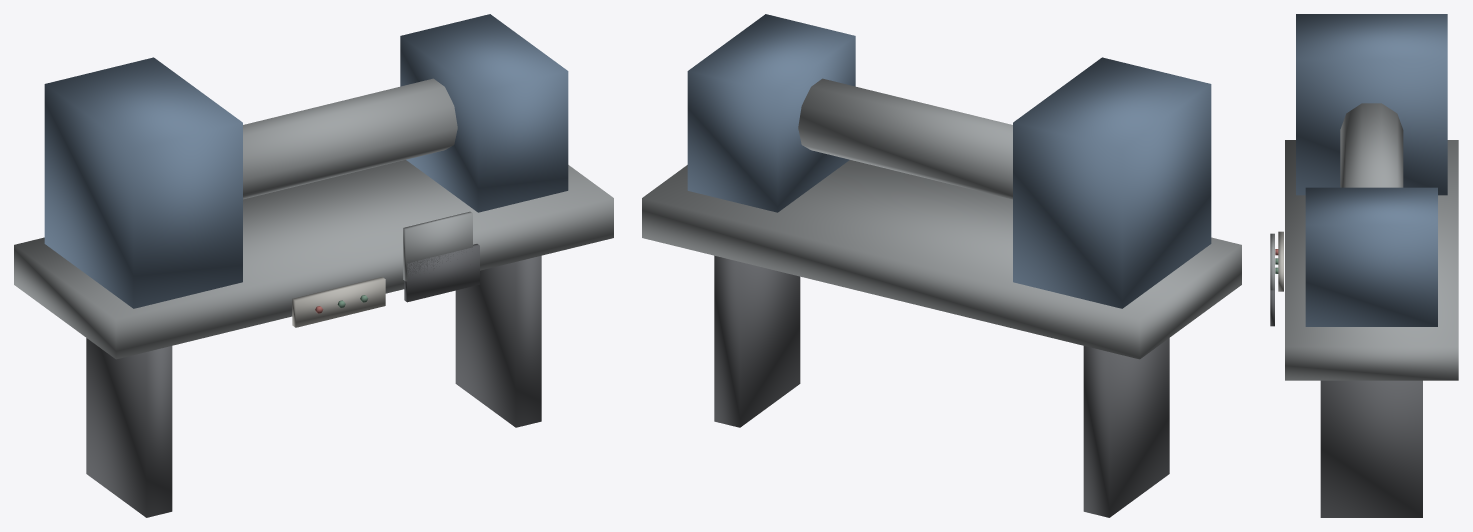
The model's file is metal_lathe_silhouette__weathered.glb.
3 renders of one model, left to right at view 1: azimuth 30°, elevation 25°; view 2: azimuth 150°, elevation 25°; view 3: azimuth 270°, elevation 25°, orthographic. The views are drawn at different scales.
Visible parts, largest first — view 1: world; view 2: world; view 3: world.
Boxes of the visible parts, x1,y1,x2,y2 form: world: (14,14,613,517); world: (642,14,1241,517); world: (1270,14,1458,517).
Size of the model in its own units: 1.55 by 1.15 by 0.5964.
